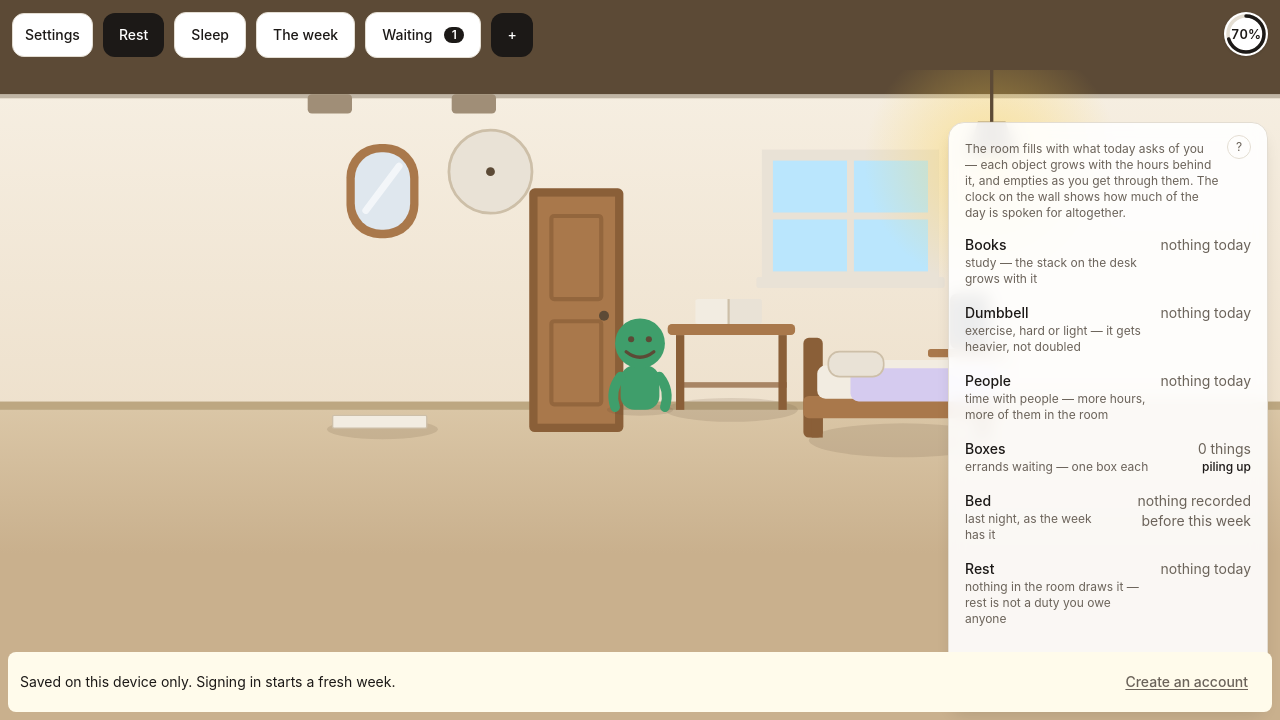
Back and close, which are not the same button › steps Back from a block to the week, and closes from it to the room
Step 1. Click the button with test id "open-week" → {"x": 306, "y": 35}, box x1=256 y1=12 x2=355 y2=58
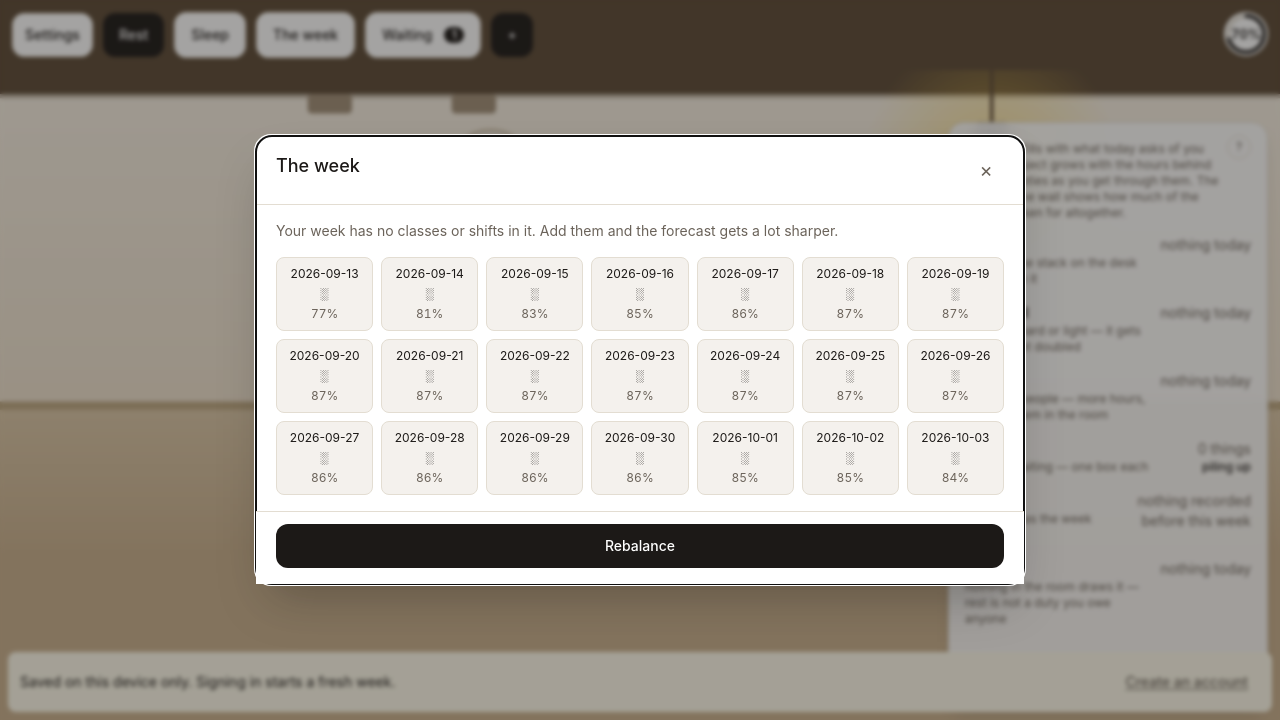
Step 2. Click the button with test id "day-2" → {"x": 535, "y": 294}, box x1=486 y1=257 x2=583 y2=331
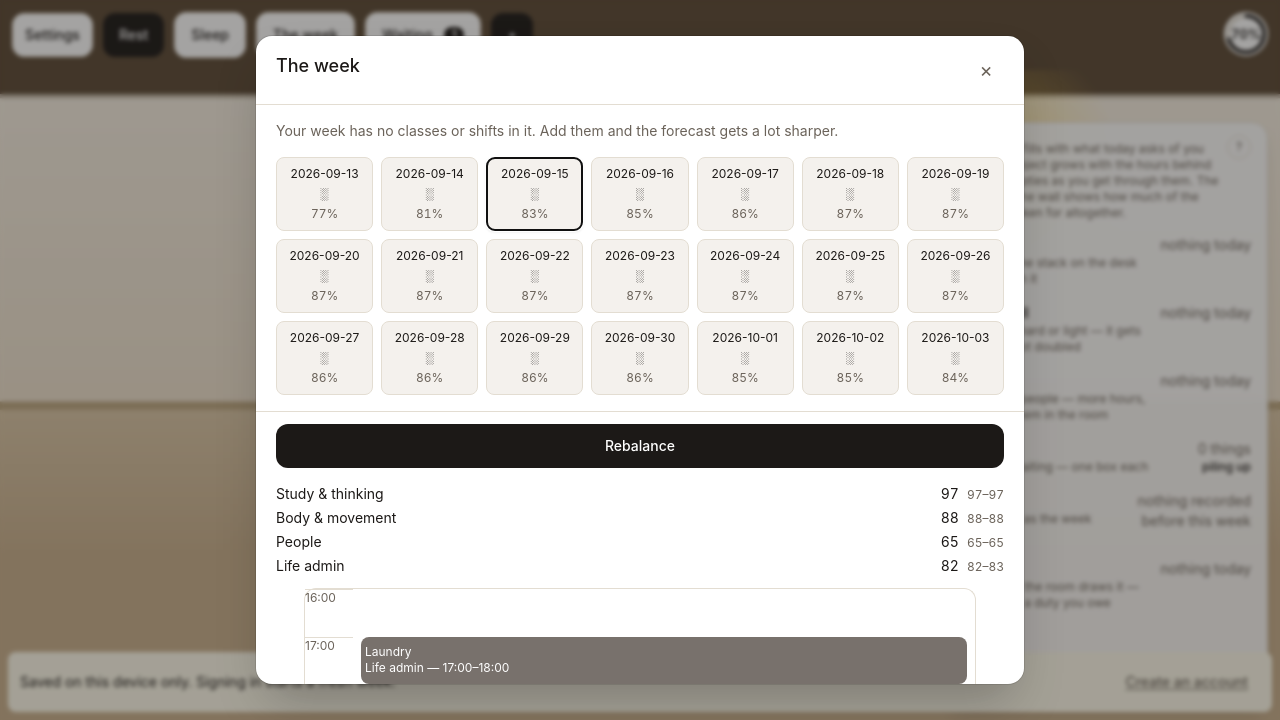
Step 3. Click the button with test id "block-laundry" → {"x": 388, "y": 652}, box x1=361 y1=637 x2=967 y2=684
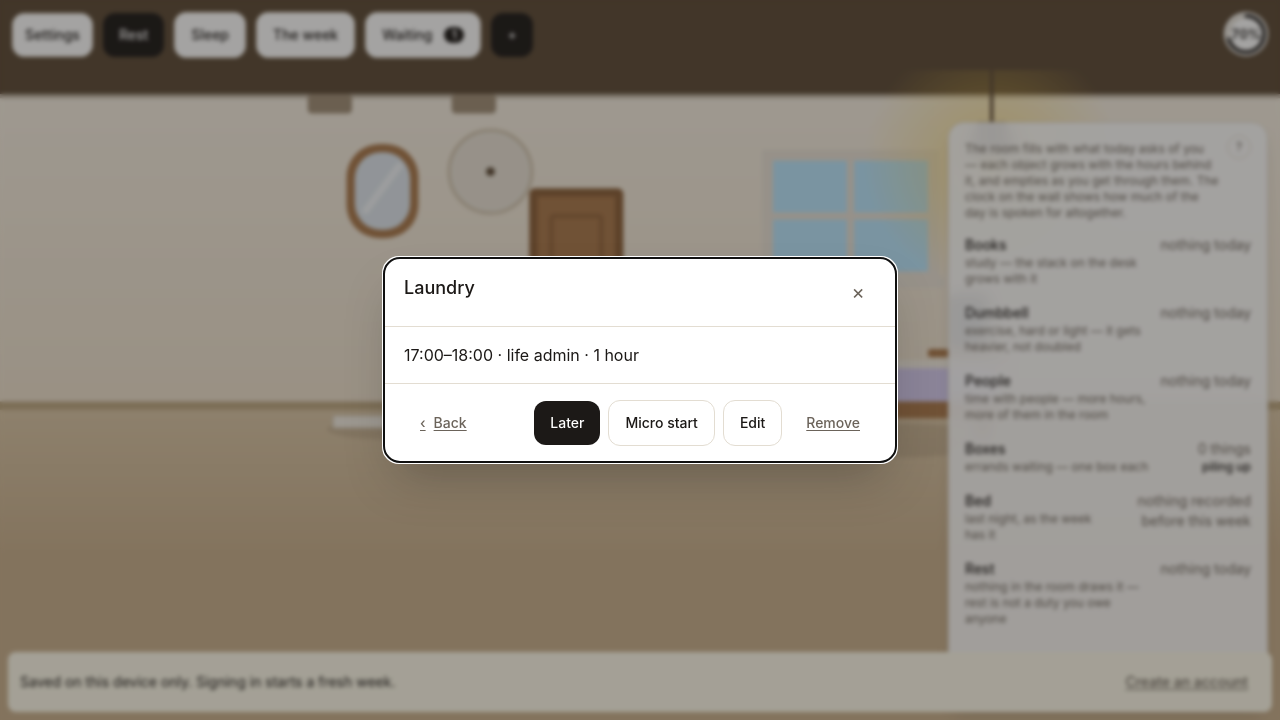
Step 4. Click the button with test id "sheet-back" → {"x": 443, "y": 423}, box x1=404 y1=401 x2=483 y2=445
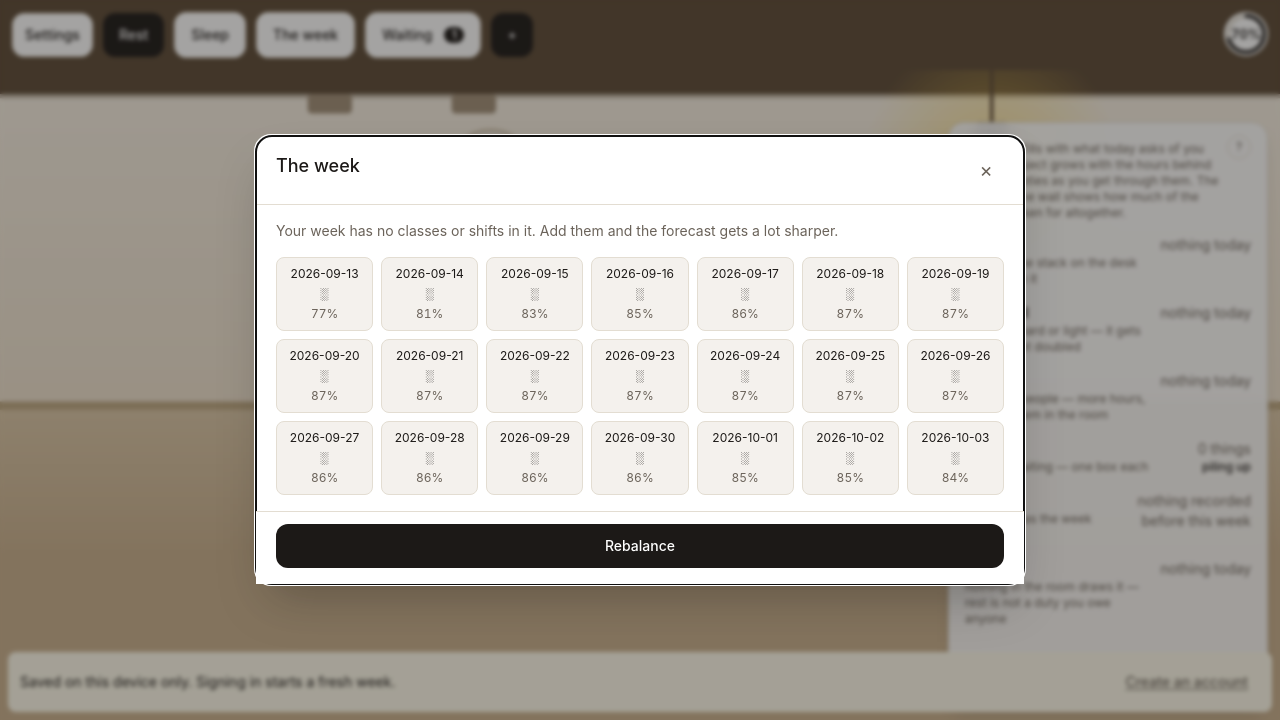
Now the dialog "The week" is shown, box x1=256 y1=136 x2=1024 y2=584
Step 5. Click the button named "close" → {"x": 986, "y": 170}, box x1=964 y1=148 x2=1008 y2=192
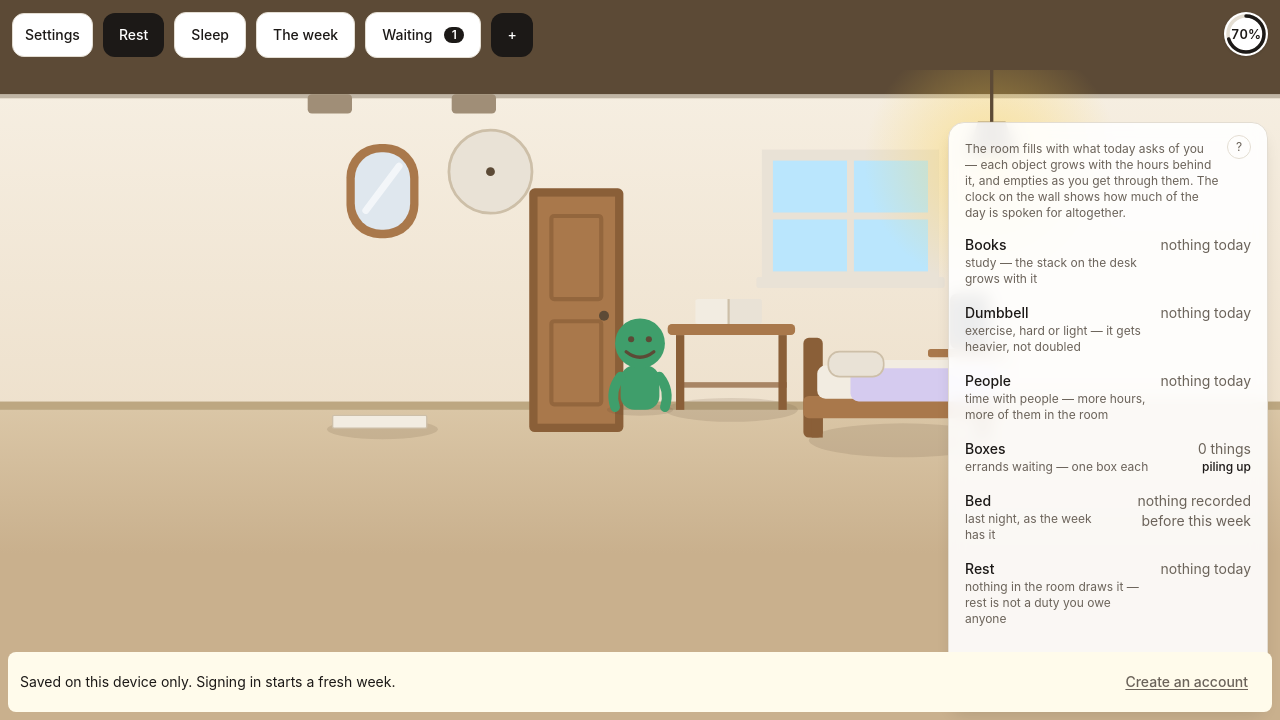
Now the dialog is gone
